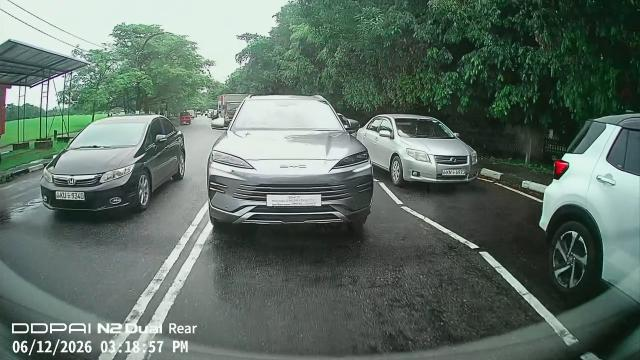illegal overtaking: (38, 94, 197, 220)
number plate: (49, 187, 89, 206)
